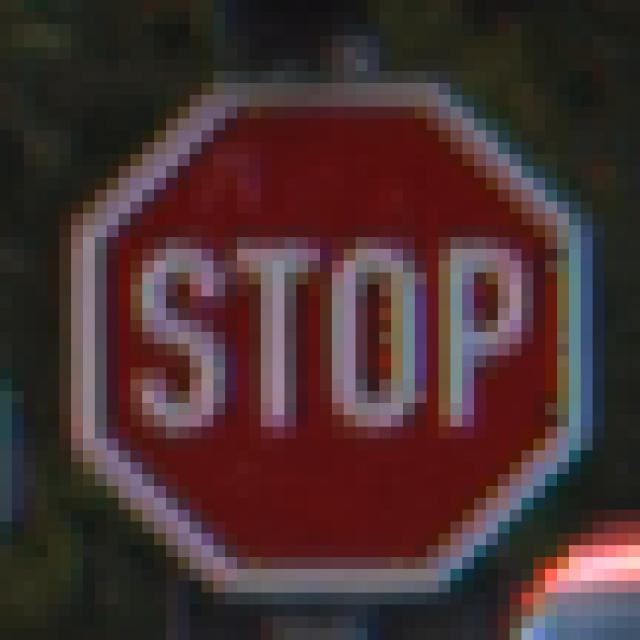STOP: (72, 72, 582, 582)
